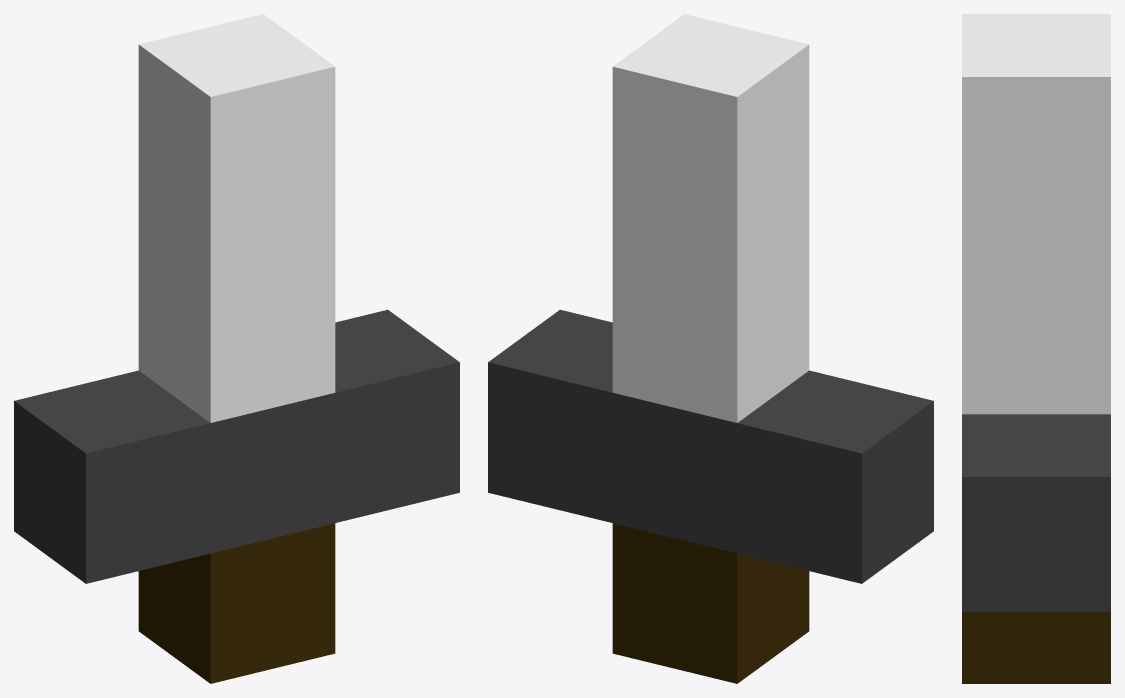
The model's file is item_weapon.fbx.
The picture shows the model from 3 angles, left to right: view 1: azimuth 30°, elevation 25°; view 2: azimuth 150°, elevation 25°; view 3: azimuth 270°, elevation 25°; orthographic projection. The views are drawn at different scales.
Visible parts, largest first — view 1: item_weapon; view 2: item_weapon; view 3: item_weapon.
Boxes of the visible parts, box(x1,y1,x2,y2) form: item_weapon: box(14, 14, 459, 683); item_weapon: box(488, 14, 933, 683); item_weapon: box(962, 14, 1110, 683).
Bounding box in the file's own units: 6 × 9 × 2.
